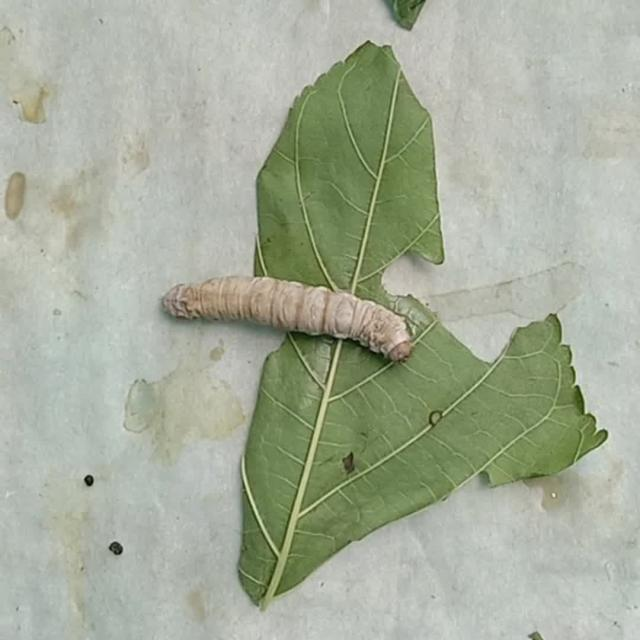Grasserie: (141, 239, 439, 404)
